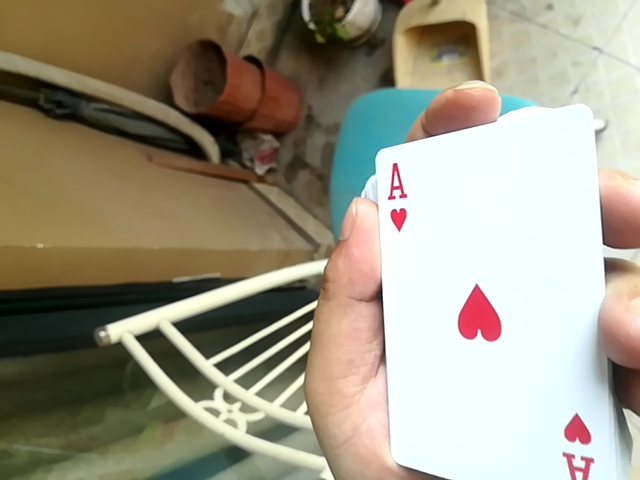hx a: (362, 111, 630, 478)
